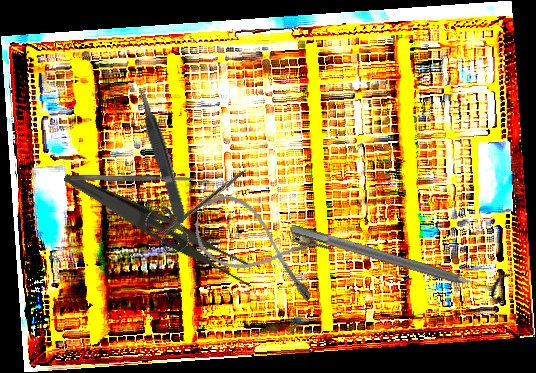Cannula: (184, 186, 335, 306)
Dressing Forceps: (53, 171, 263, 291)
Fixation Ring: (285, 211, 512, 307)
Iris Scissors: (141, 148, 260, 259)
Spatula Surgical: (70, 173, 196, 184)
Tissue Forceps: (133, 85, 190, 226)
